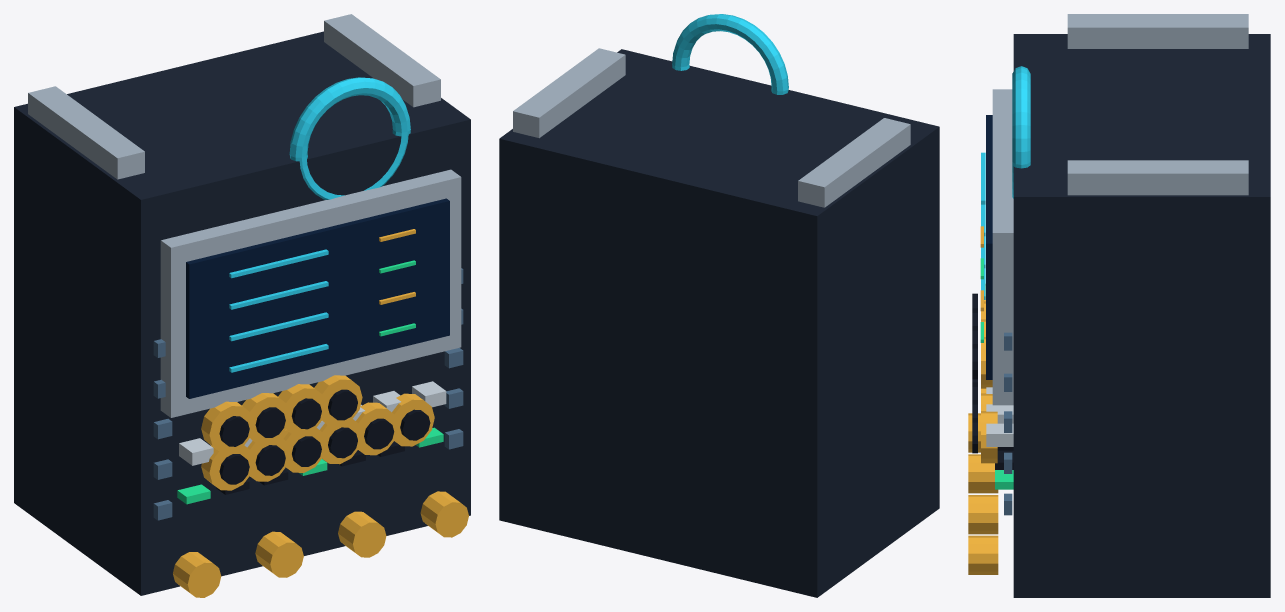
File: 48_L85_ProximityOperationsGuidanceComputer.fbx
3 renders of one model, left to right at view 1: azimuth 30°, elevation 25°; view 2: azimuth 150°, elevation 25°; view 3: azimuth 270°, elevation 25°, orthographic. The views are drawn at different scales.
Parts seen in each view (by area): view 1: L85_ProximityOperationsGuidanceComputer, L85_ProximityOperationsGuidanceComputer_Part_0009, L85_ProximityOperationsGuidanceComputer_Part_0022, L85_ProximityOperationsGuidanceComputer_Part_0020, L85_ProximityOperationsGuidanceComputer_Part_0010, L85_ProximityOperationsGuidanceComputer_Part_0028, L85_ProximityOperationsGuidanceComputer_Part_0024, L85_ProximityOperationsGuidanceComputer_Part_0018, L85_ProximityOperationsGuidanceComputer_Part_0026, L85_ProximityOperationsGuidanceComputer_Part_0012, L85_ProximityOperationsGuidanceComputer_Part_0016, L85_ProximityOperationsGuidanceComputer_Part_0014 (+10 smaller); view 2: L85_ProximityOperationsGuidanceComputer, L85_ProximityOperationsGuidanceComputer_Part_0009; view 3: L85_ProximityOperationsGuidanceComputer, L85_ProximityOperationsGuidanceComputer_Part_0009, L85_ProximityOperationsGuidanceComputer_Part_0020.
Boxes of the visible parts, <box> form: L85_ProximityOperationsGuidanceComputer: <box>14,14,470,597</box>; L85_ProximityOperationsGuidanceComputer_Part_0009: <box>289,77,410,199</box>; L85_ProximityOperationsGuidanceComputer_Part_0022: <box>201,401,253,452</box>; L85_ProximityOperationsGuidanceComputer_Part_0020: <box>391,393,434,446</box>; L85_ProximityOperationsGuidanceComputer_Part_0010: <box>201,444,253,490</box>; L85_ProximityOperationsGuidanceComputer_Part_0028: <box>314,375,362,425</box>; L85_ProximityOperationsGuidanceComputer_Part_0024: <box>242,393,290,443</box>; L85_ProximityOperationsGuidanceComputer_Part_0018: <box>356,402,397,455</box>; L85_ProximityOperationsGuidanceComputer_Part_0026: <box>278,384,326,434</box>; L85_ProximityOperationsGuidanceComputer_Part_0012: <box>247,435,289,481</box>; L85_ProximityOperationsGuidanceComputer_Part_0016: <box>319,417,362,464</box>; L85_ProximityOperationsGuidanceComputer_Part_0014: <box>283,426,325,472</box>; L85_ProximityOperationsGuidanceComputer: <box>499,48,939,597</box>; L85_ProximityOperationsGuidanceComputer_Part_0009: <box>672,14,788,94</box>; L85_ProximityOperationsGuidanceComputer: <box>968,14,1270,597</box>; L85_ProximityOperationsGuidanceComputer_Part_0009: <box>1012,66,1030,198</box>; L85_ProximityOperationsGuidanceComputer_Part_0020: <box>981,411,997,463</box>.
Size of the model in its own units: 95.88 by 128 by 75.2.
